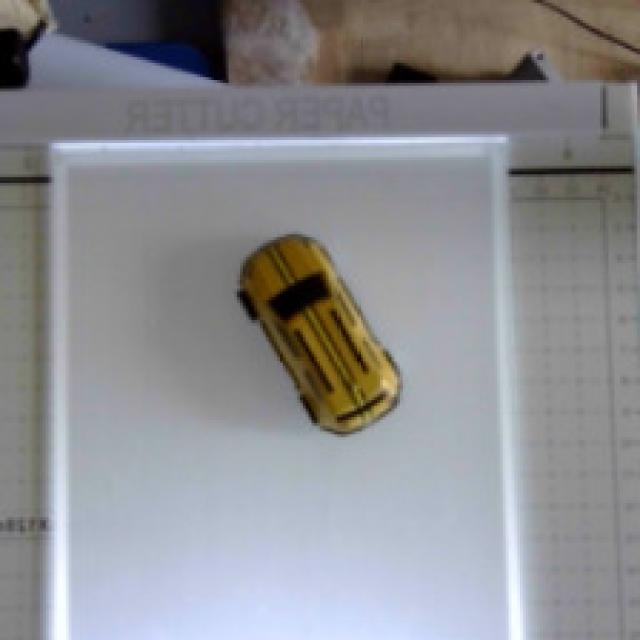Yellow Car: (199, 206, 438, 473)
